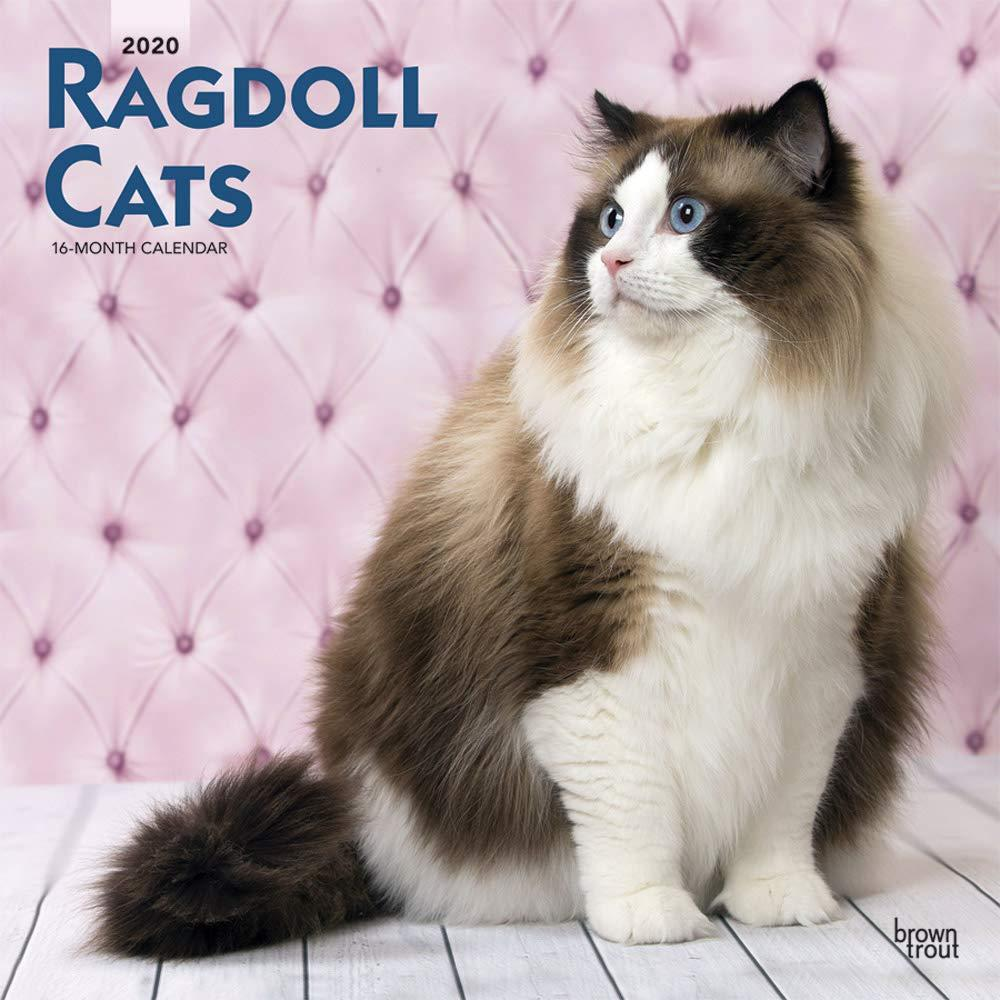ragdoll: (519, 53, 899, 422)
